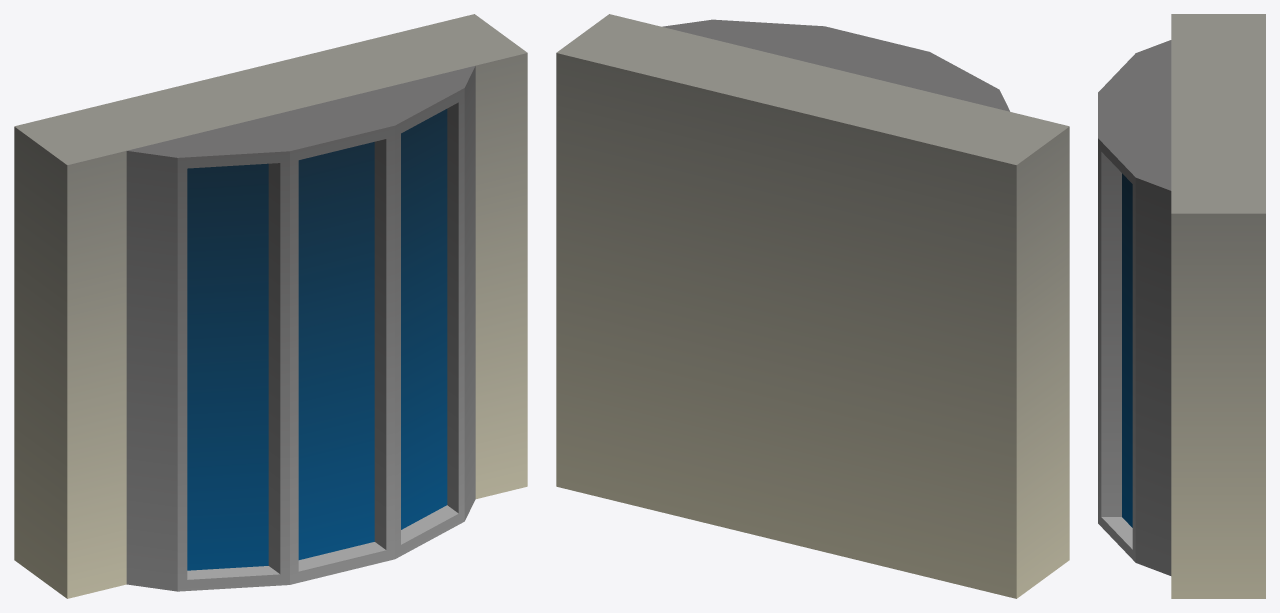
Rendered from B02_fenetre_5.fbx.
3 renders of one model, left to right at view 1: azimuth 30°, elevation 25°; view 2: azimuth 150°, elevation 25°; view 3: azimuth 270°, elevation 25°, orthographic. The views are drawn at different scales.
Visible parts, largest first — view 1: B02_fenetre_5; view 2: B02_fenetre_5; view 3: B02_fenetre_5.
Boxes of the visible parts, x1,y1,x2,y2 form: B02_fenetre_5: [14, 14, 527, 598]; B02_fenetre_5: [556, 14, 1069, 598]; B02_fenetre_5: [1098, 14, 1265, 598].
Size of the model in its own units: 500 by 450 by 178.
